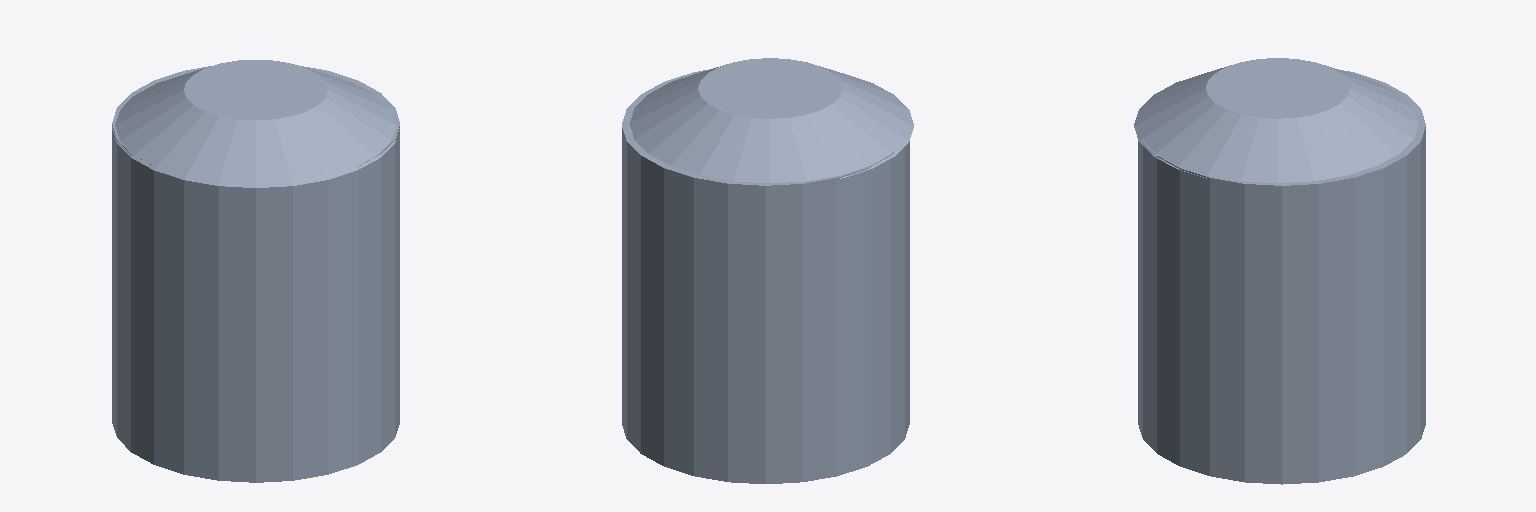
File: Bin3.obj
3 views of the same model, side by side, from view 1: azimuth 30°, elevation 25°; view 2: azimuth 150°, elevation 25°; view 3: azimuth 270°, elevation 25° (orthographic).
Parts seen in each view (by area): view 1: mergedBlocks; view 2: mergedBlocks; view 3: mergedBlocks.
Part boxes in pixels (left/top/right/bottom): mergedBlocks: left=112, top=60, right=399, bottom=482; mergedBlocks: left=622, top=58, right=913, bottom=483; mergedBlocks: left=1134, top=58, right=1425, bottom=484.
Bounding box in the file's own units: 0.7067 × 0.8952 × 0.71.